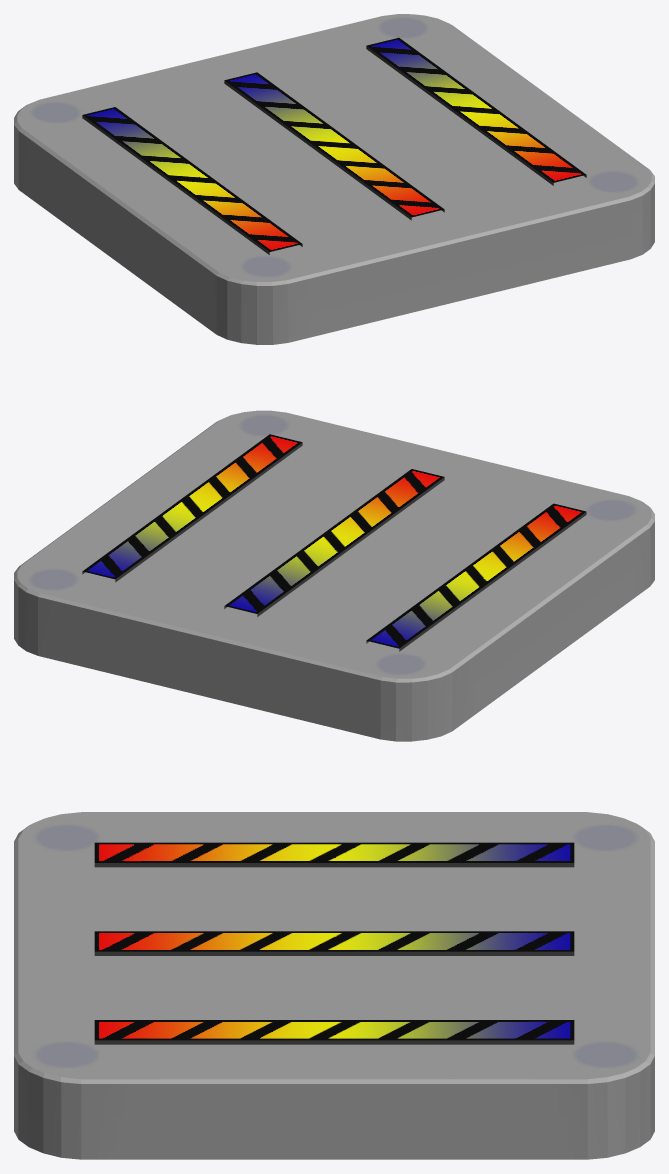
Rendered from obj_interactive_mixerSwitch_on.obj.
3 renders of one model, top to bottom at view 1: azimuth 30°, elevation 25°; view 2: azimuth 150°, elevation 25°; view 3: azimuth 270°, elevation 25°, orthographic. The views are drawn at different scales.
Visible parts, largest first — view 1: Куб; view 2: Куб; view 3: Куб.
Part boxes in pixels (x1,y1,x2,y2): Куб: (14, 14, 654, 344); Куб: (14, 410, 654, 741); Куб: (14, 812, 654, 1159).
Bounding box in the file's own units: 1 × 0.2528 × 1.
